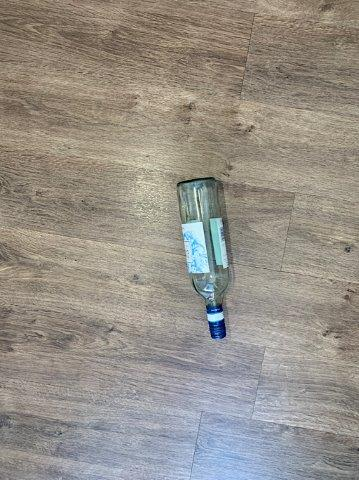botolkaca: (177, 179, 229, 337)
